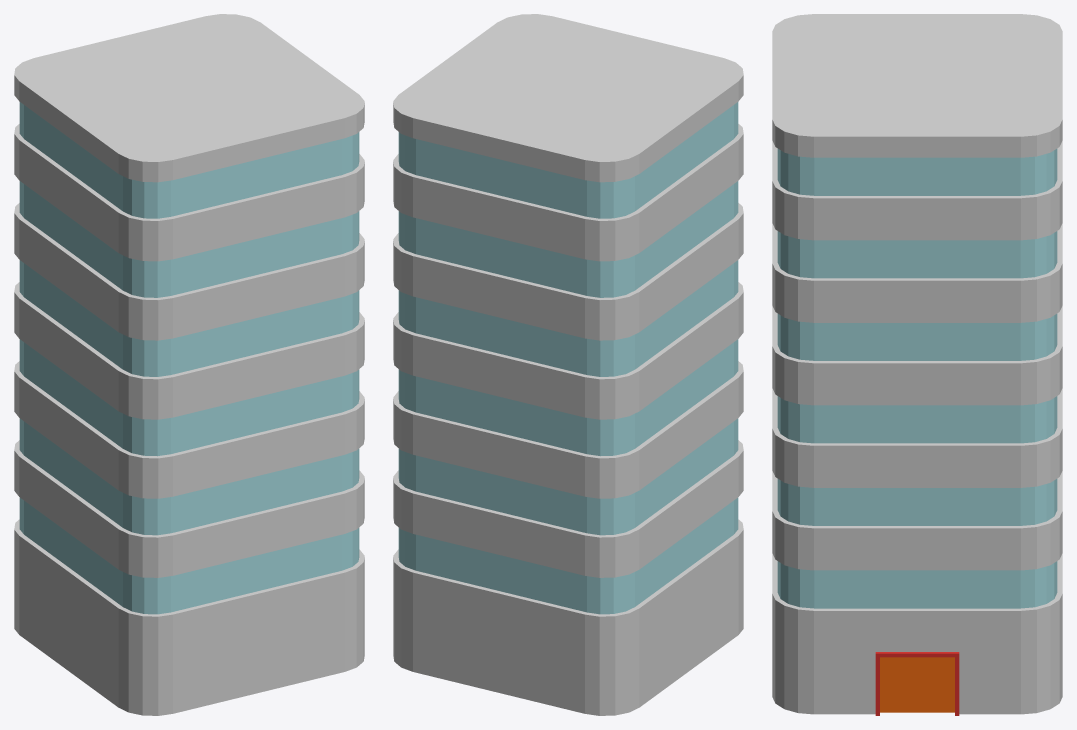
Rendered from quarter_25_b.glb.
The picture shows the model from 3 angles, left to right: view 1: azimuth 30°, elevation 25°; view 2: azimuth 150°, elevation 25°; view 3: azimuth 270°, elevation 25°; orthographic projection. The views are drawn at different scales.
Parts seen in each view (by area): view 1: Building 88_White_0, Building 88_Blue_0; view 2: Building 88_White_0, Building 88_Blue_0; view 3: Building 88_White_0, Building 88_Blue_0, Building 88_Orange_0, Building 88_Red_0.
Boxes of the visible parts, x1=… form: Building 88_White_0: x1=14, y1=14, x2=364, y2=715; Building 88_Blue_0: x1=19, y1=102, x2=359, y2=614; Building 88_White_0: x1=393, y1=14, x2=743, y2=715; Building 88_Blue_0: x1=398, y1=102, x2=738, y2=614; Building 88_White_0: x1=772, y1=14, x2=1062, y2=714; Building 88_Blue_0: x1=777, y1=148, x2=1057, y2=608; Building 88_Orange_0: x1=880, y1=657, x2=954, y2=712; Building 88_Red_0: x1=875, y1=652, x2=959, y2=715.
Bounding box in the file's own units: 1.99 × 4.31 × 1.96.
